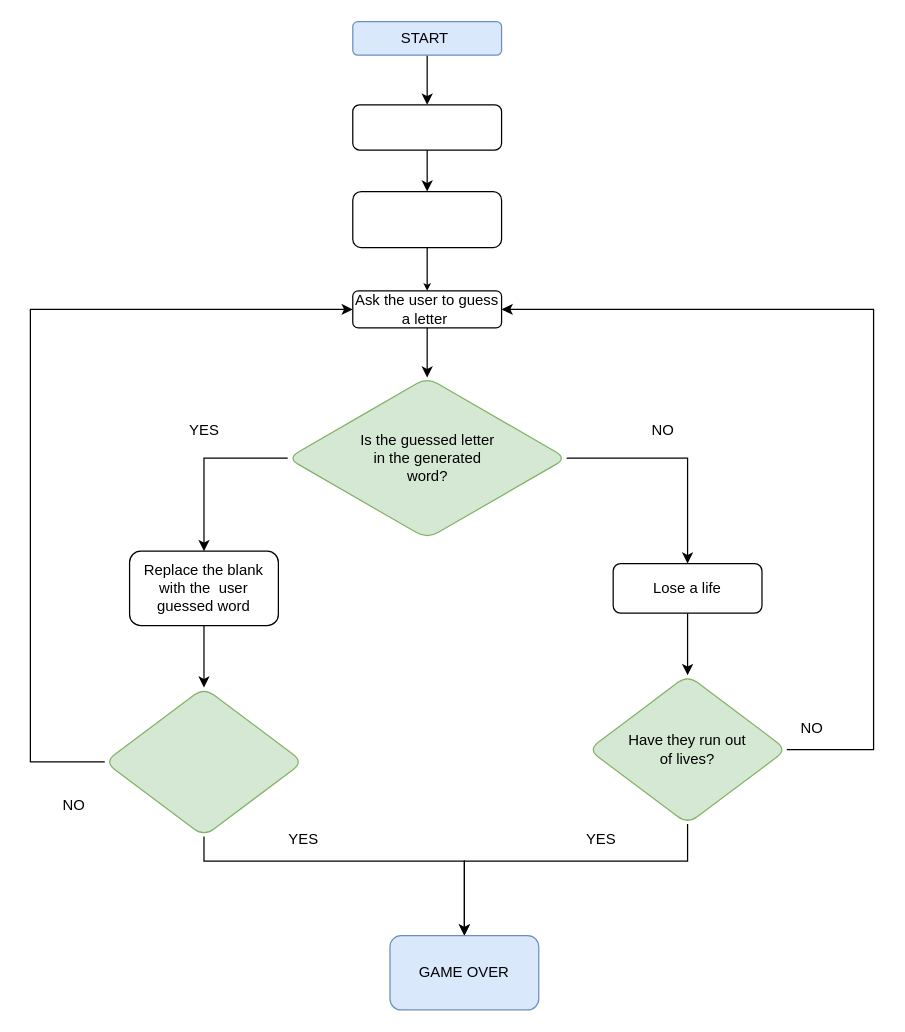
Some shapes in this 905 by 1032 pixel diagram are drawn without their labels. The centre of each missing label's shape, as x and y in pixels:
"Are all the blanks filled?" belongs at point (203, 761).
"Generate a random word" belongs at point (427, 127).
"Generate as many blanks necessary according to the word" belongs at point (427, 219).
